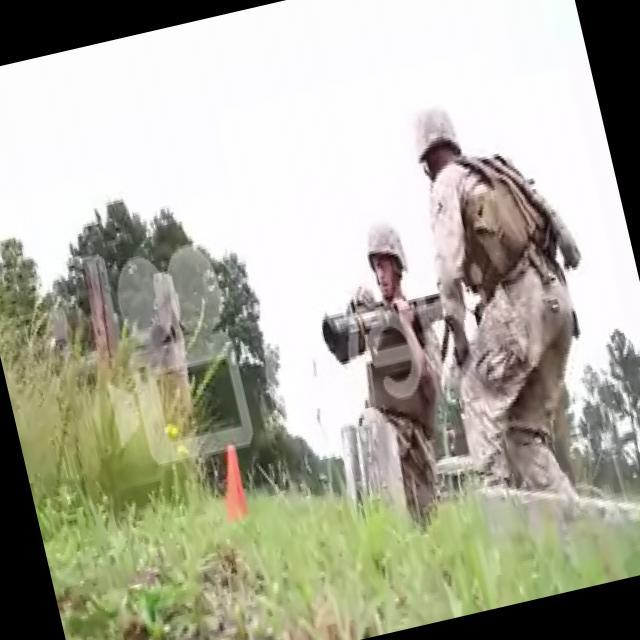rocket: (317, 280, 450, 364)
